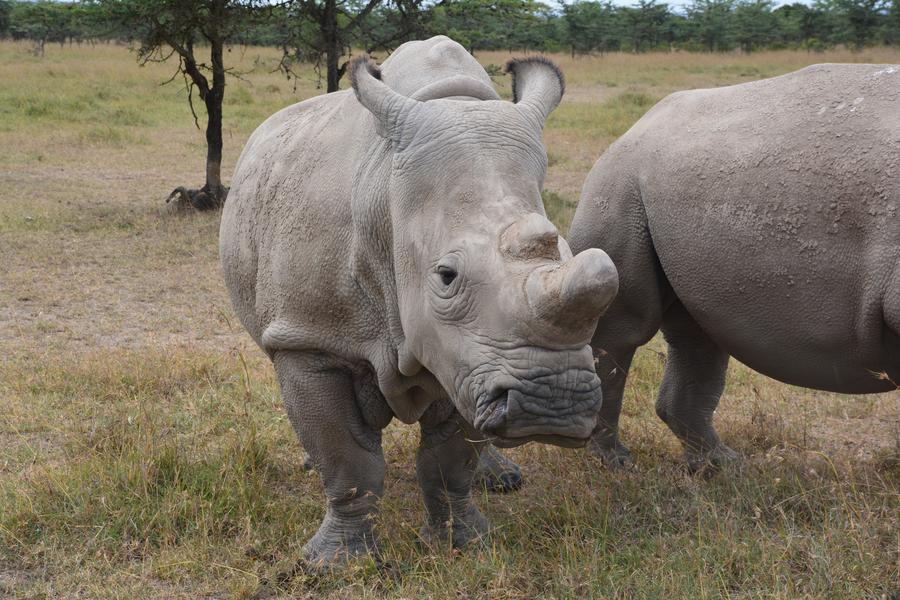rhino: (242, 20, 620, 543), (631, 45, 885, 485)
